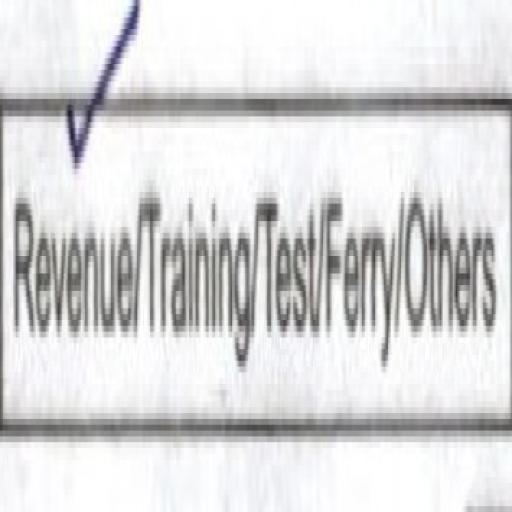check: (0, 0, 140, 448)
